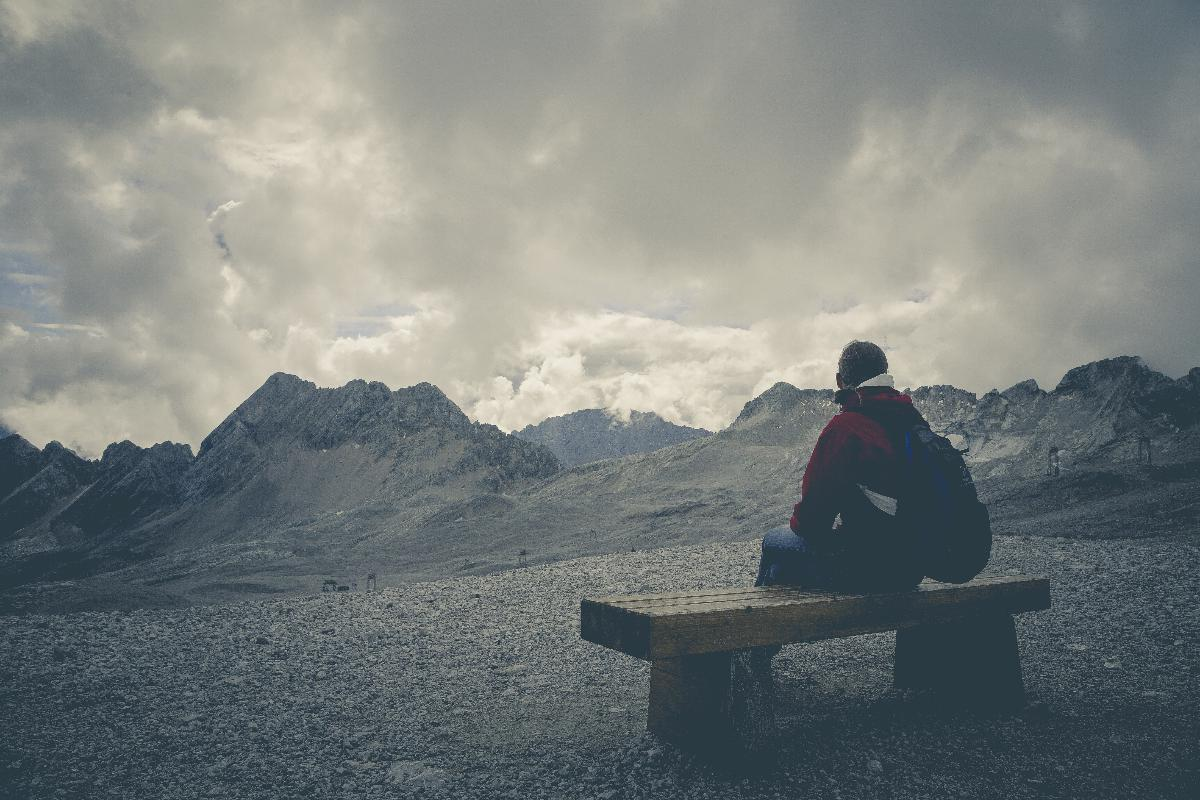Person: (755, 337, 1009, 598)
